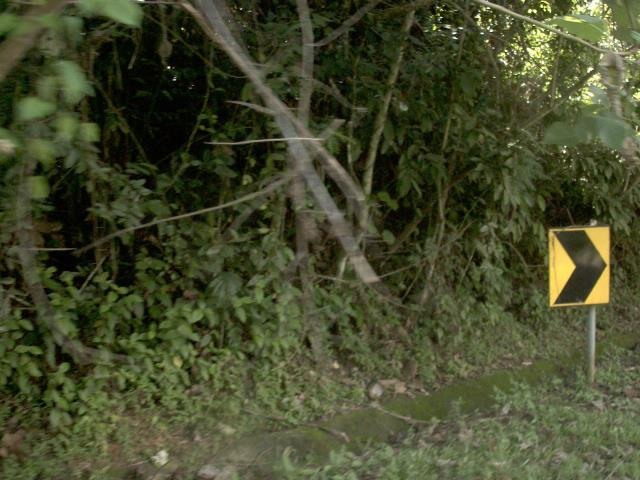traffic_sign: (538, 213, 621, 319)
